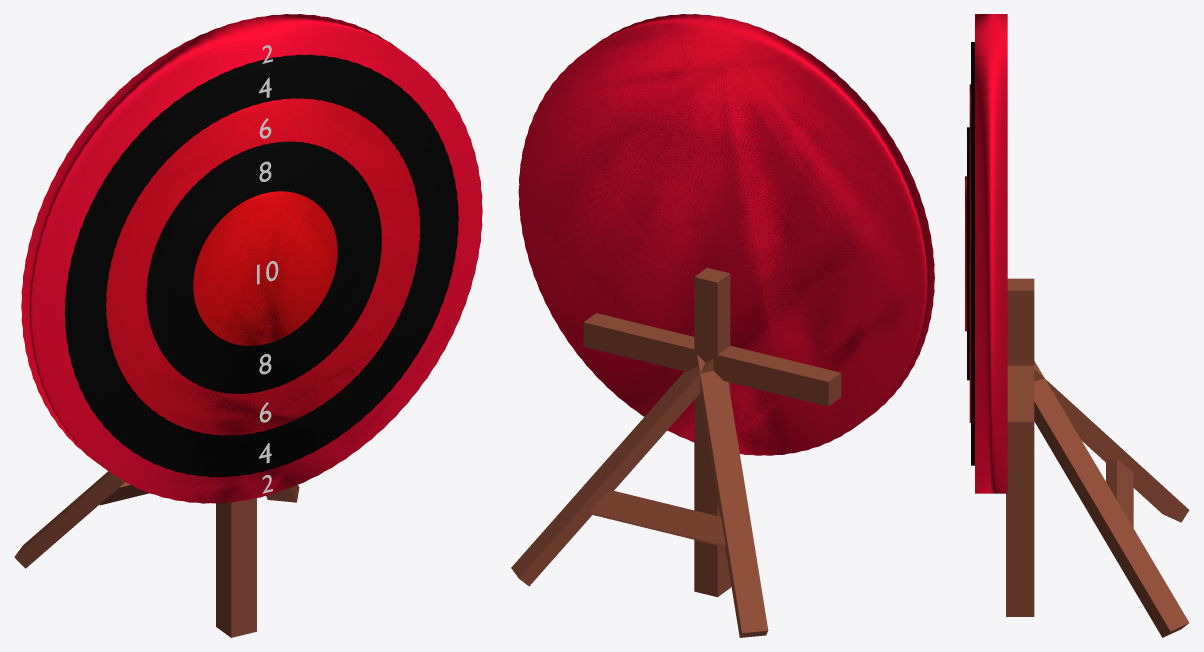
The model's file is BoardFBX.fbx.
3 renders of one model, left to right at view 1: azimuth 30°, elevation 25°; view 2: azimuth 150°, elevation 25°; view 3: azimuth 270°, elevation 25°, orthographic. The views are drawn at different scales.
Parts seen in each view (by area): view 1: Cube.001; view 2: Cube.001; view 3: Cube.001.
Boxes of the visible parts, x1,y1,x2,y2 form: Cube.001: [14, 14, 482, 637]; Cube.001: [511, 14, 934, 637]; Cube.001: [965, 14, 1189, 637].
Bounding box in the file's own units: 1612 × 2131 × 760.
